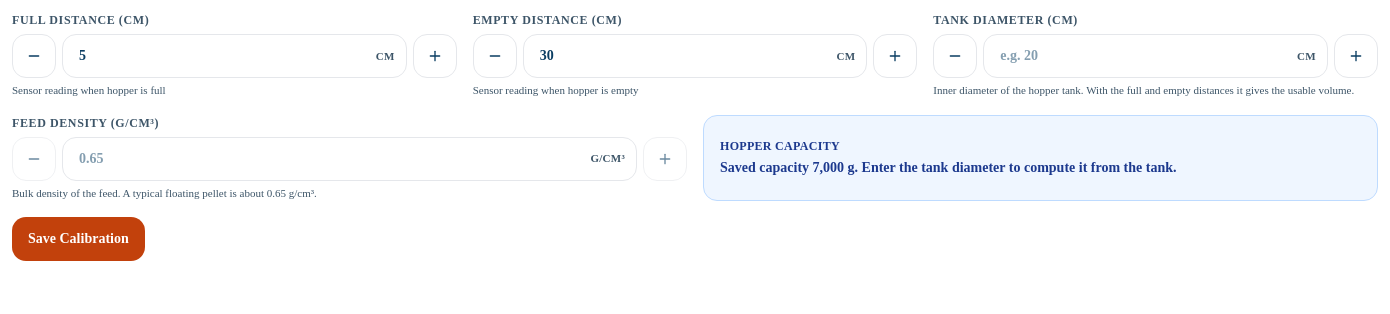
Test: hopper calibration form › announces a save failure with role=alert
The image size is (1390, 314).
Click the button "Save Calibration". click: coordinates (78, 239)
box: [12,217,145,261]
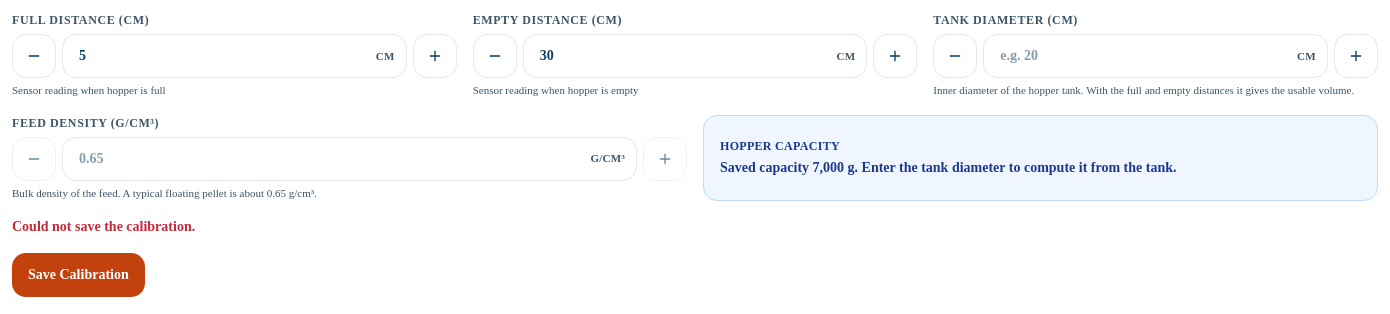
Expected: the message reads "Could not save the calibration.", [12,219,195,234]
